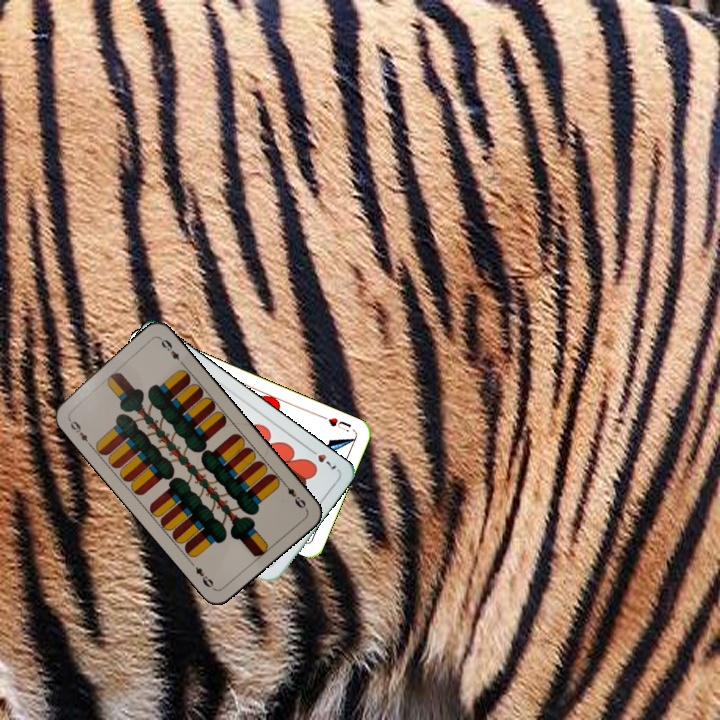E9: (64, 413, 94, 448), (279, 478, 309, 512)
H7: (305, 444, 339, 472)
HU: (317, 411, 354, 434)
